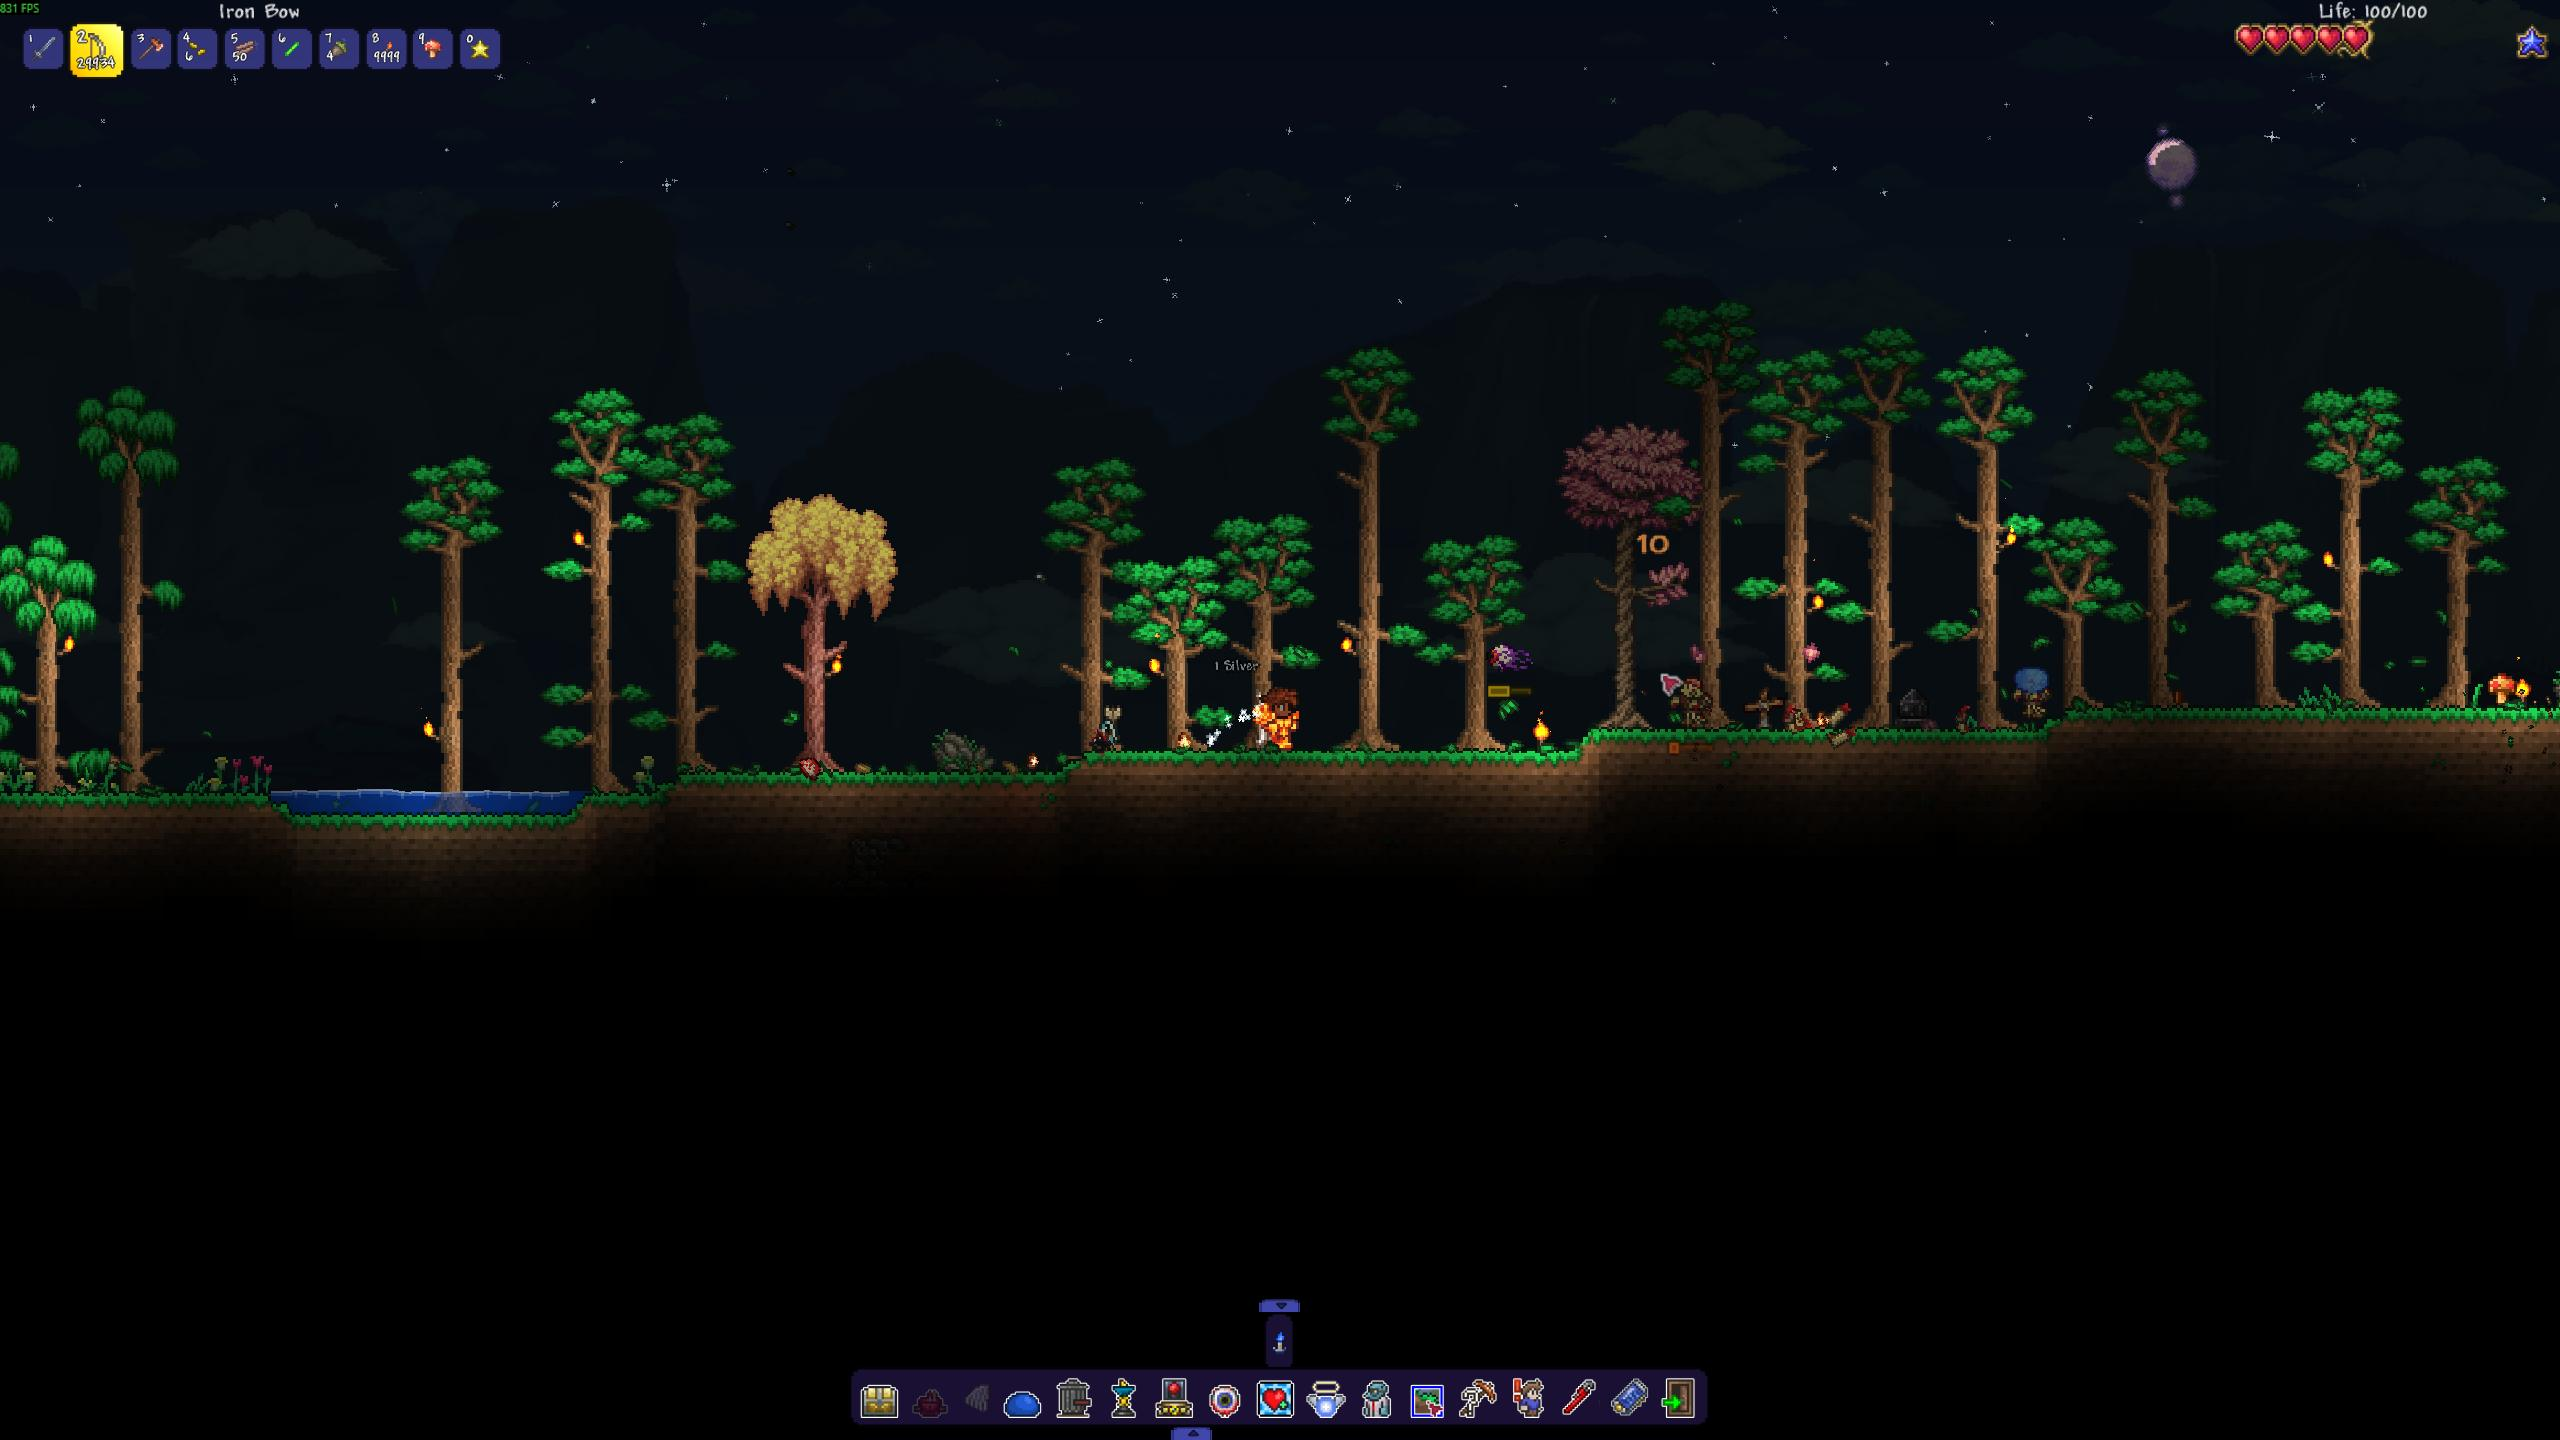Demon Eye: (1486, 638, 1537, 679)
Zombie: (2006, 663, 2057, 719), (1669, 673, 1713, 724)
